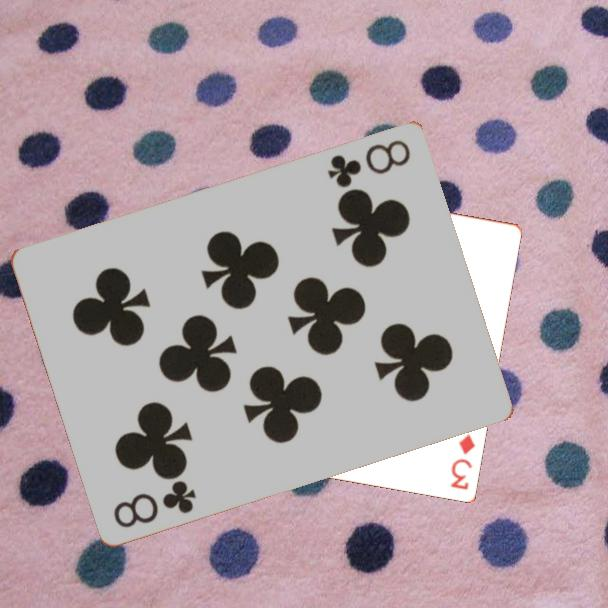c08: (324, 136, 414, 190), (110, 476, 199, 530)
d03: (447, 430, 478, 492)
